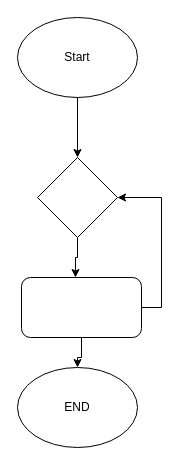
This 187x465 diagram has some shape labels left out. The centre of each missing label's shape, as x and y in pixels:
"loop i=1;i<=25" goes at [77,197].
"print hasil = i*i" goes at [81,307].
